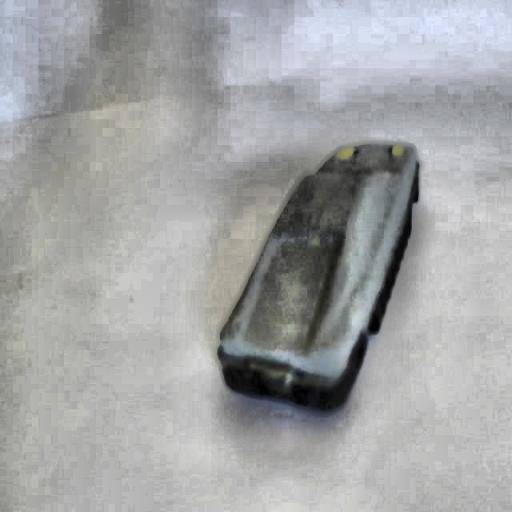normal_car: (211, 138, 423, 417)
